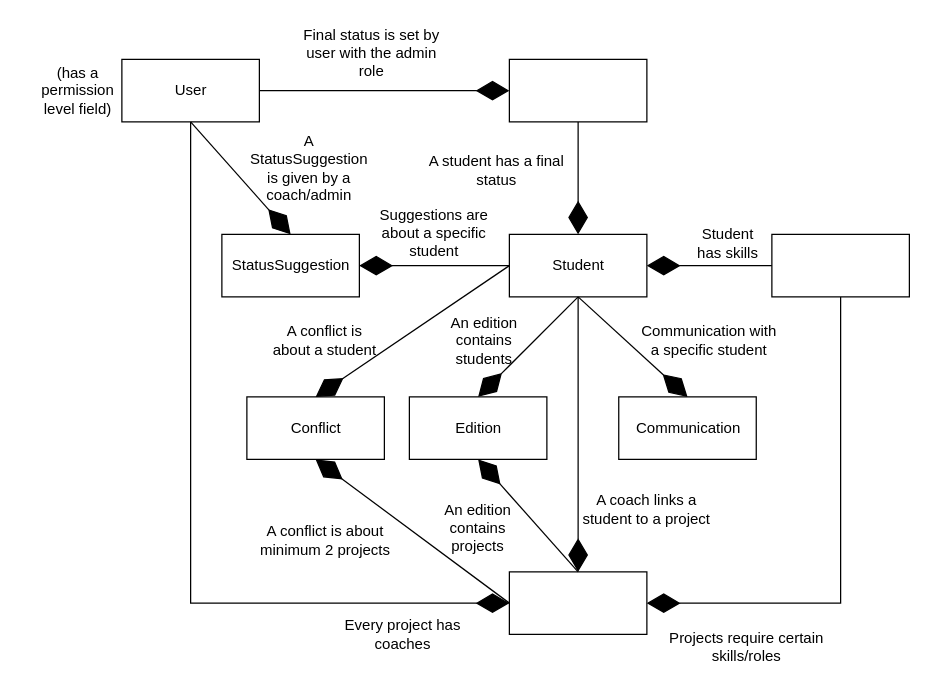
Some shapes in this 931 by 693 pixel diagram are drawn without their labels. Each missing label, with the box of its shape:
Project: (508, 571, 647, 634)
Skill: (771, 233, 909, 297)
Status: (508, 58, 647, 122)
